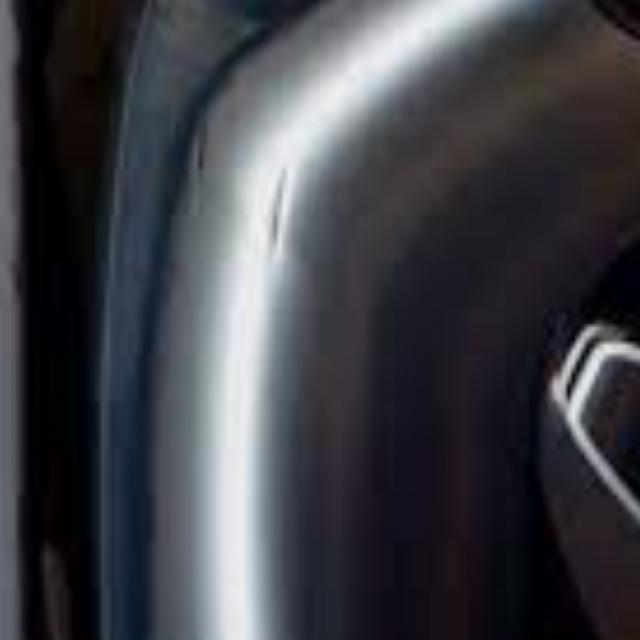dents: (178, 92, 241, 268), (264, 150, 316, 299)
